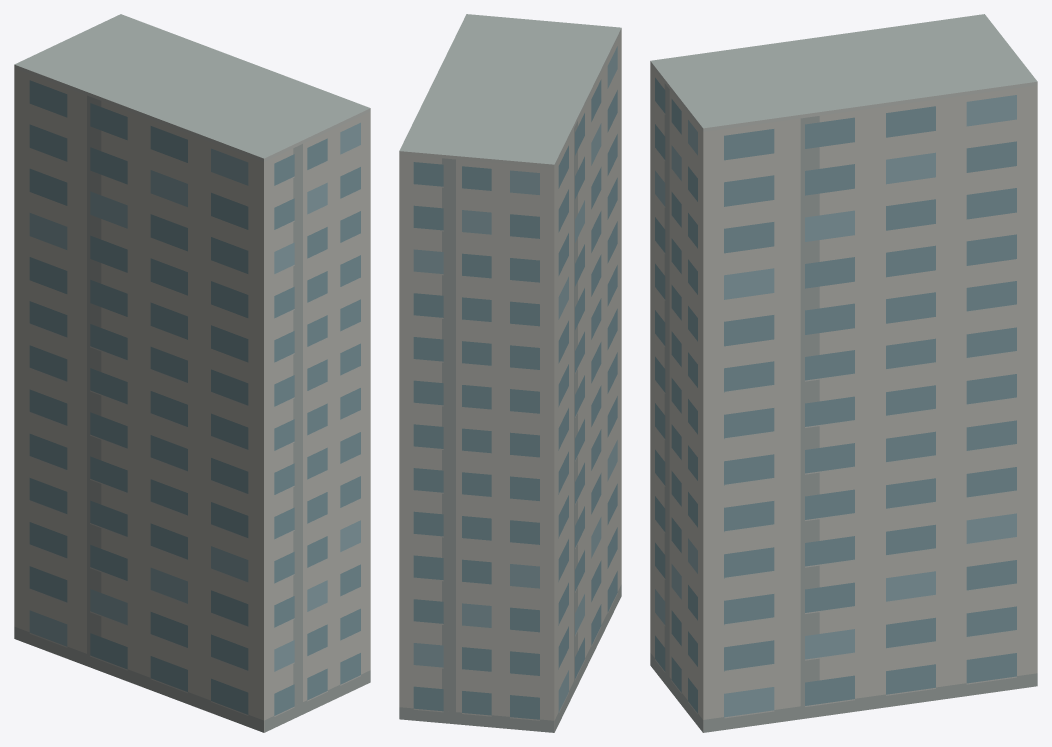
File: residential-34eb7145-6f58-41dc-af74-c4be97f8a437.glb
3 renders of one model, left to right at view 1: azimuth 30°, elevation 25°; view 2: azimuth 150°, elevation 25°; view 3: azimuth 270°, elevation 25°, orthographic. The views are drawn at different scales.
Visible parts, largest first — view 1: residential-34eb7145-6f58-41dc-af74-c4be97f8a437.tmp; view 2: residential-34eb7145-6f58-41dc-af74-c4be97f8a437.tmp; view 3: residential-34eb7145-6f58-41dc-af74-c4be97f8a437.tmp.
Boxes of the visible parts, x1=… form: residential-34eb7145-6f58-41dc-af74-c4be97f8a437.tmp: x1=14, y1=14, x2=370, y2=732; residential-34eb7145-6f58-41dc-af74-c4be97f8a437.tmp: x1=399, y1=14, x2=621, y2=732; residential-34eb7145-6f58-41dc-af74-c4be97f8a437.tmp: x1=650, y1=14, x2=1037, y2=732.
Bounding box in the file's own units: 16.24 × 40 × 23.24.
